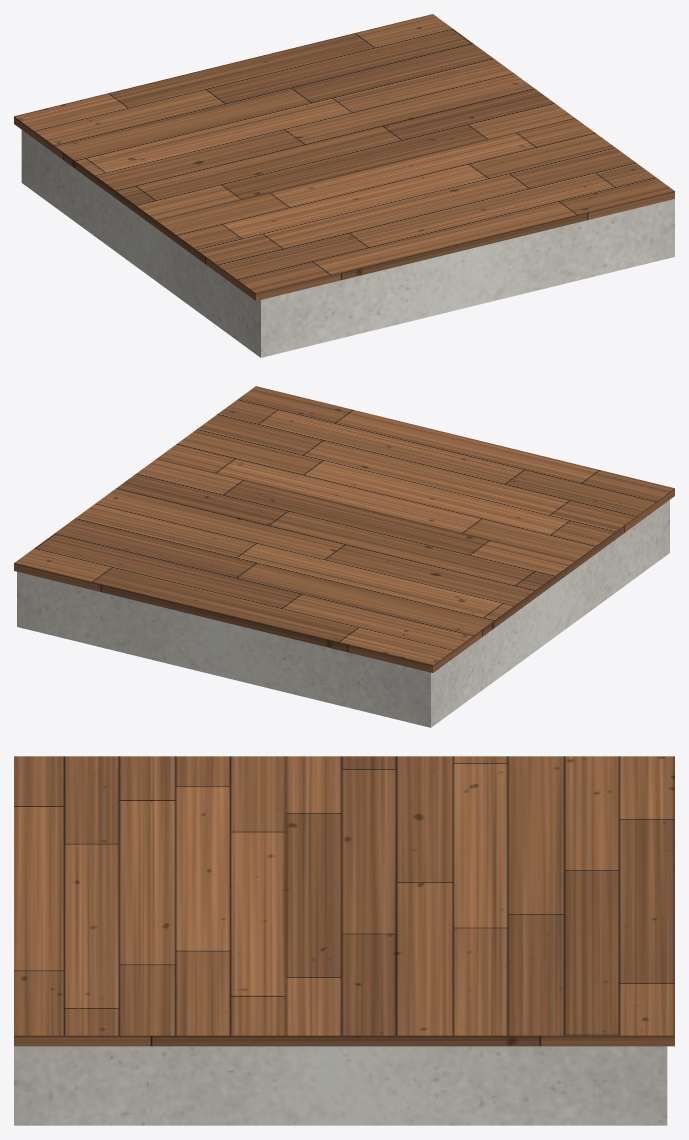
The model's file is floor_tile_e0101.glb.
3 renders of one model, top to bottom at view 1: azimuth 30°, elevation 25°; view 2: azimuth 150°, elevation 25°; view 3: azimuth 270°, elevation 25°, orthographic. The views are drawn at different scales.
Parts seen in each view (by area): view 1: floor_tile_e0101_floor, floor_tile_e0101_plaster; view 2: floor_tile_e0101_floor, floor_tile_e0101_plaster; view 3: floor_tile_e0101_floor, floor_tile_e0101_plaster.
Boxes of the visible parts, <box> form: floor_tile_e0101_floor: <box>14,14,674,300</box>; floor_tile_e0101_plaster: <box>21,130,674,357</box>; floor_tile_e0101_floor: <box>14,386,674,672</box>; floor_tile_e0101_plaster: <box>17,500,669,727</box>; floor_tile_e0101_floor: <box>14,756,674,1046</box>; floor_tile_e0101_plaster: <box>14,1046,667,1125</box>.
Bounding box in the file's own units: 1.7 × 0.255 × 1.7.
Materials: 2 (2 with a texture image).
